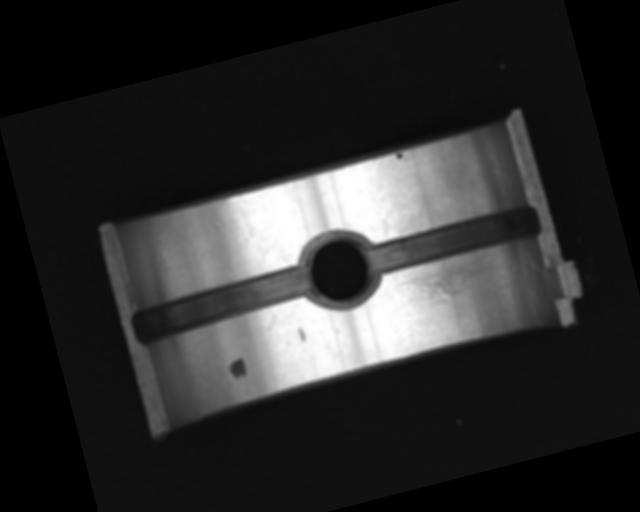blot: (226, 356, 249, 382), (395, 150, 408, 164)
bruise: (296, 326, 306, 343)
gap: (129, 263, 318, 349), (365, 202, 542, 274)
hole: (297, 222, 385, 314)
nick: (237, 215, 265, 274)
scratch: (392, 251, 510, 308)
